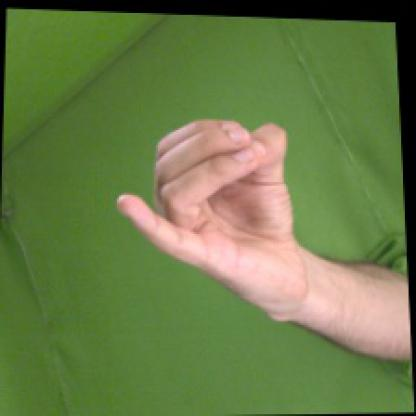Hand: (116, 118, 298, 312)
